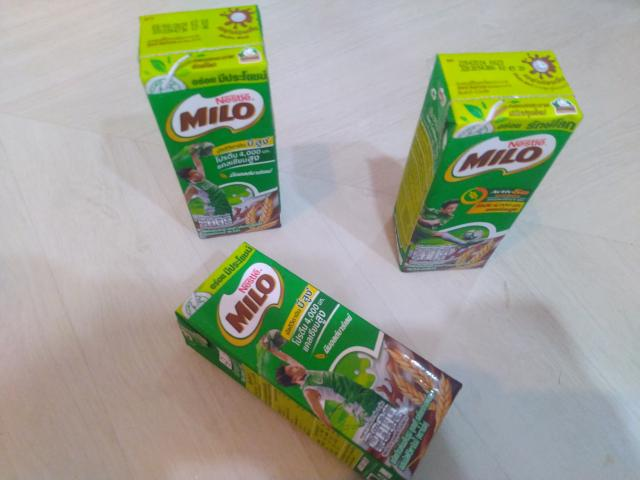drink_box: (155, 218, 489, 480), (375, 41, 604, 308), (117, 8, 310, 240)
